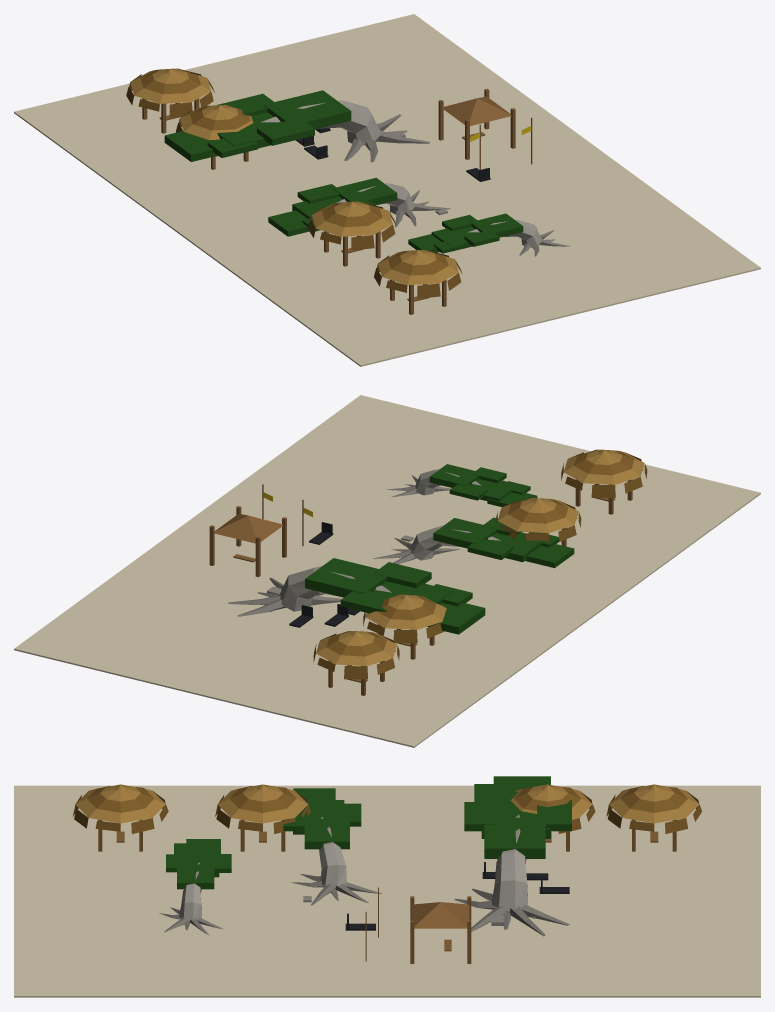
File: eaglebeach_fx.glb
3 renders of one model, top to bottom at view 1: azimuth 30°, elevation 25°; view 2: azimuth 150°, elevation 25°; view 3: azimuth 270°, elevation 25°, orthographic. The views are drawn at different scales.
Visible parts, largest first — view 1: eaglebeach_fx_lod0; view 2: eaglebeach_fx_lod0; view 3: eaglebeach_fx_lod0.
Boxes of the visible parts, x1,y1,x2,y2 form: eaglebeach_fx_lod0: (14,14,760,366); eaglebeach_fx_lod0: (14,395,760,747); eaglebeach_fx_lod0: (14,776,760,997).
Size of what is drawn, in the model's own units: 28 by 3.81 by 42.
